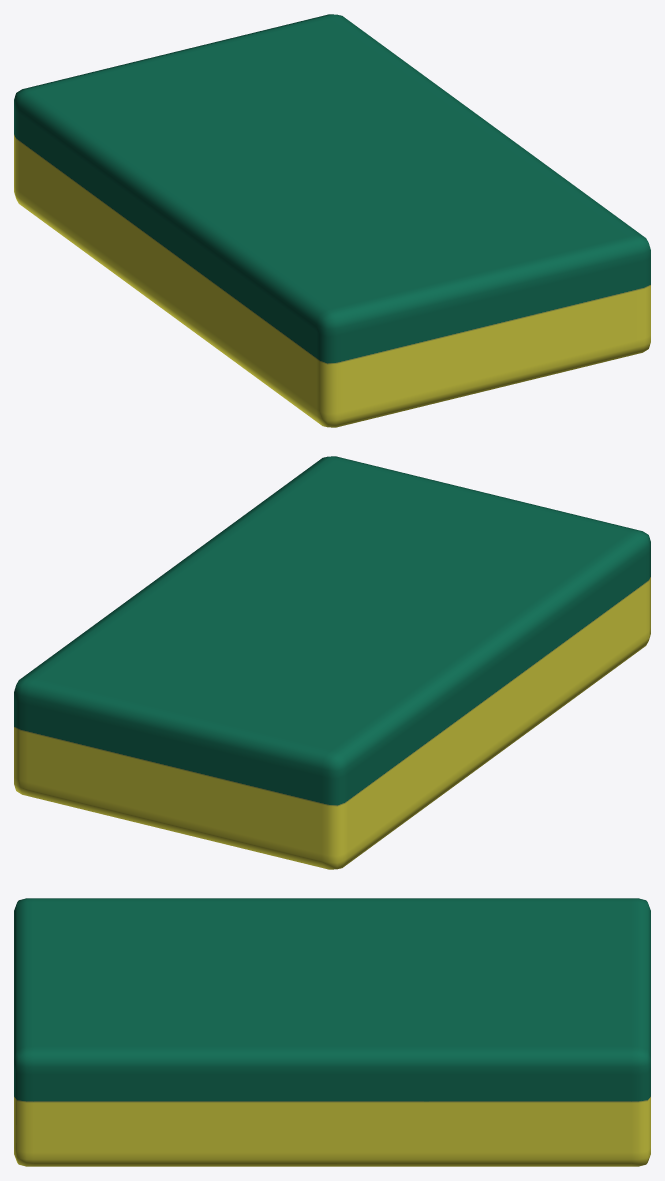
The model's file is scrubber.fbx.
The picture shows the model from 3 angles, top to bottom: view 1: azimuth 30°, elevation 25°; view 2: azimuth 150°, elevation 25°; view 3: azimuth 270°, elevation 25°; orthographic projection.
Parts seen in each view (by area): view 1: scrubber; view 2: scrubber; view 3: scrubber.
Part boxes in pixels (x1,y1,x2,y2): scrubber: [14, 14, 650, 427]; scrubber: [14, 456, 650, 869]; scrubber: [14, 898, 650, 1166].
Size of the model in its own units: 0.06 by 0.02 by 0.1.
Materials: 1 (1 with a texture image).
